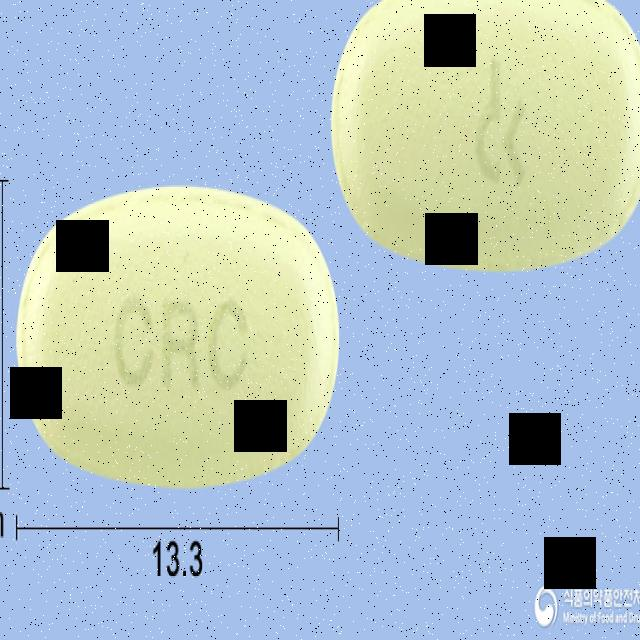Clirocin: (14, 176, 342, 494), (330, 0, 640, 275)
